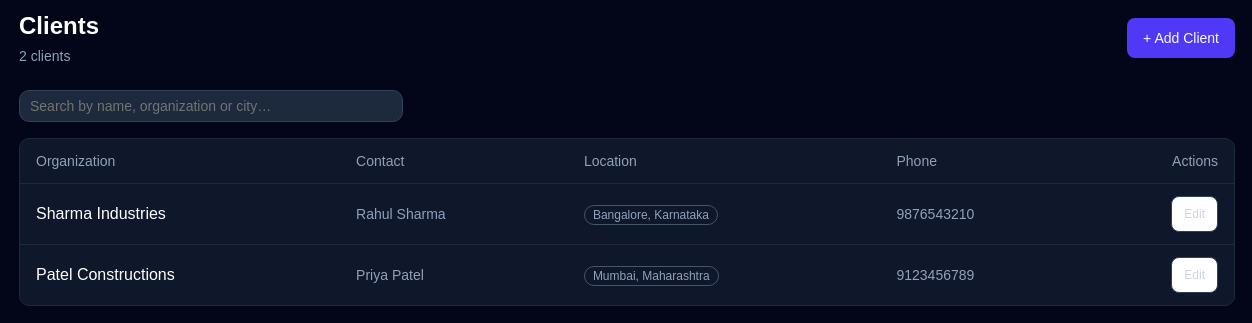
Test: filters clients by search
Type "Sharma" into the field with placeholder "Search by name, organization or city…" at (211,106), box [19,90,403,122]
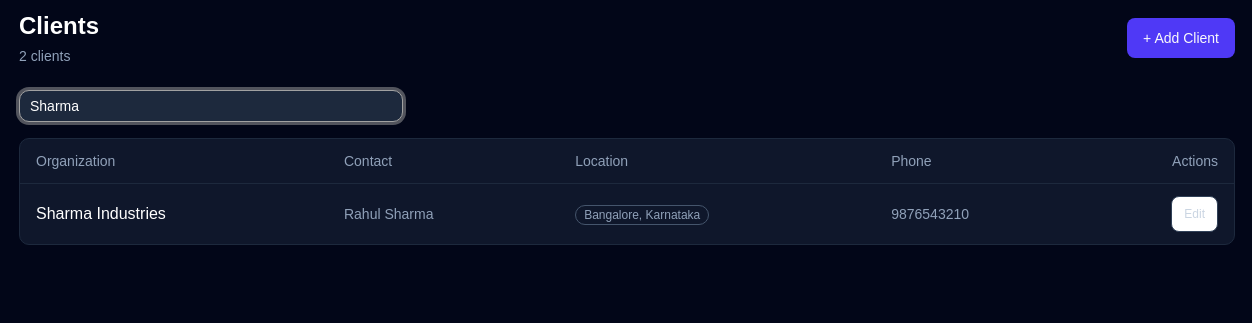
Expected: the text "Sharma Industries" is shown, [36,205,166,222]
Expected: the text "Patel Constructions" is gone
